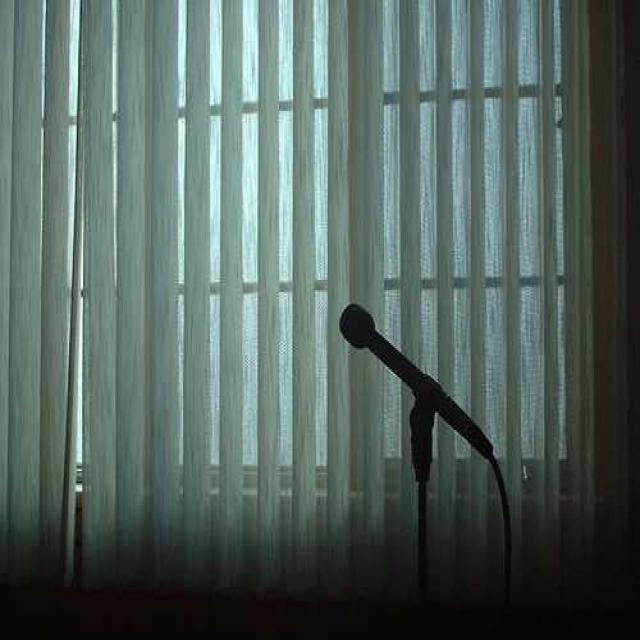microphone: (340, 306, 494, 460)
